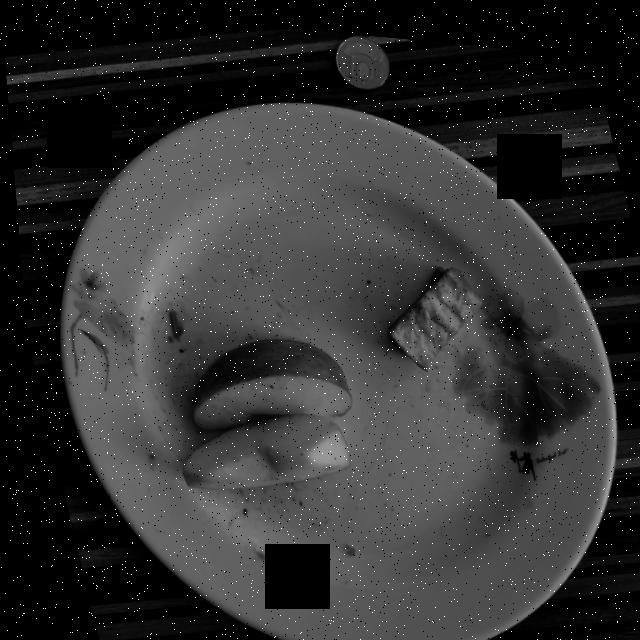apple -sliced-: (174, 334, 345, 486)
coin: (334, 29, 388, 82)
creamy tofu: (383, 258, 477, 363)
